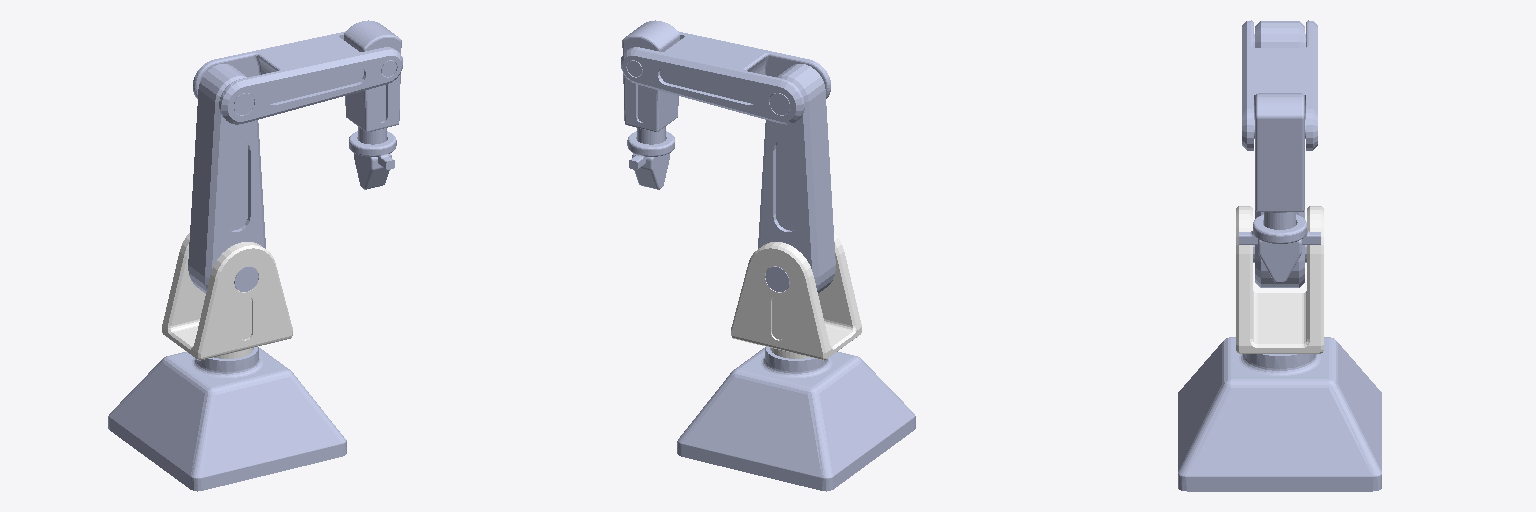
The robot description file, URDF, robot "robotic_arm_urdf":
<?xml version="1.0" encoding="utf-8"?>
<!-- This URDF was automatically created by SolidWorks to URDF Exporter! Originally created by [author] ([email redacted]) 
     Commit Version: 1.6.0-4-g7f85cfe  Build Version: 1.6.7995.38578
     For more information, please see http://wiki.ros.org/sw_urdf_exporter -->
<robot
  name="robotic_arm_urdf">
  <link
    name="base_link">
    <inertial>
      <origin
        xyz="-4.42354486374086E-17 3.46944695195361E-17 0.0738760171205099"
        rpy="0 0 0" />
      <mass
        value="17.1466031047214" />
      <inertia
        ixx="0.192001545021743"
        ixy="4.94231299318652E-10"
        ixz="-5.20420392413465E-17"
        iyy="0.192001560775053"
        iyz="5.28557777898092E-17"
        izz="0.295440370143331" />
    </inertial>
    <visual>
      <origin
        xyz="0 0 0"
        rpy="0 0 0" />
      <geometry>
        <mesh
          filename="package://robotic_arm_urdf/meshes/base_link.STL" />
      </geometry>
      <material
        name="">
        <color
          rgba="0.792156862745098 0.819607843137255 0.933333333333333 1" />
      </material>
    </visual>
    <collision>
      <origin
        xyz="0 0 0"
        rpy="0 0 0" />
      <geometry>
        <mesh
          filename="package://robotic_arm_urdf/meshes/base_link.STL" />
      </geometry>
    </collision>
  </link>
  <link
    name="link_1">
    <inertial>
      <origin
        xyz="-7.8988E-11 -2.573E-14 0.11047"
        rpy="0 0 0" />
      <mass
        value="3.0905" />
      <inertia
        ixx="0.025388"
        ixy="-1.4177E-12"
        ixz="-7.4535E-12"
        iyy="0.026302"
        iyz="-2.5317E-15"
        izz="0.019632" />
    </inertial>
    <visual>
      <origin
        xyz="0 0 0"
        rpy="0 0 0" />
      <geometry>
        <mesh
          filename="package://robotic_arm_urdf/meshes/link_1.STL" />
      </geometry>
      <material
        name="">
        <color
          rgba="1 1 1 1" />
      </material>
    </visual>
    <collision>
      <origin
        xyz="0 0 0"
        rpy="0 0 0" />
      <geometry>
        <mesh
          filename="package://robotic_arm_urdf/meshes/link_1.STL" />
      </geometry>
    </collision>
  </link>
  <joint
    name="joint_1"
    type="revolute">
    <origin
      xyz="0 0 0.2"
      rpy="0 0 -1.5708" />
    <parent
      link="base_link" />
    <child
      link="link_1" />
    <axis
      xyz="0 0 1" />
    <limit
      lower="-3.142"
      upper="3.142"
      effort="300"
      velocity="3" />
  </joint>
  <link
    name="link_2">
    <inertial>
      <origin
        xyz="3.5562E-17 0.16752 6.9389E-18"
        rpy="0 0 0" />
      <mass
        value="5.5867" />
      <inertia
        ixx="0.12632"
        ixy="-1.9293E-17"
        ixz="3.4805E-19"
        iyy="0.011401"
        iyz="-2.3426E-18"
        izz="0.12911" />
    </inertial>
    <visual>
      <origin
        xyz="0 0 0"
        rpy="0 0 0" />
      <geometry>
        <mesh
          filename="package://robotic_arm_urdf/meshes/link_2.STL" />
      </geometry>
      <material
        name="">
        <color
          rgba="0.79216 0.81961 0.93333 1" />
      </material>
    </visual>
    <collision>
      <origin
        xyz="0 0 0"
        rpy="0 0 0" />
      <geometry>
        <mesh
          filename="package://robotic_arm_urdf/meshes/link_2.STL" />
      </geometry>
    </collision>
  </link>
  <joint
    name="joint_2"
    type="revolute">
    <origin
      xyz="0 0 0.205"
      rpy="1.5707963267949 0 -1.5707963267949" />
    <parent
      link="link_1" />
    <child
      link="link_2" />
    <axis
      xyz="0 0 -1" />
    <limit
      lower="-1.57"
      upper="1.57"
      effort="200"
      velocity="3" />
  </joint>
  <link
    name="link_3">
    <inertial>
      <origin
        xyz="-0.17893 -2.2204E-16 8.3267E-17"
        rpy="0 0 0" />
      <mass
        value="2.8262" />
      <inertia
        ixx="0.0074041"
        ixy="2.8087E-18"
        ixz="9.3947E-18"
        iyy="0.028552"
        iyz="-3.4736E-10"
        izz="0.025128" />
    </inertial>
    <visual>
      <origin
        xyz="0 0 0"
        rpy="0 0 0" />
      <geometry>
        <mesh
          filename="package://robotic_arm_urdf/meshes/link_3.STL" />
      </geometry>
      <material
        name="">
        <color
          rgba="0.79216 0.81961 0.93333 1" />
      </material>
    </visual>
    <collision>
      <origin
        xyz="0 0 0"
        rpy="0 0 0" />
      <geometry>
        <mesh
          filename="package://robotic_arm_urdf/meshes/link_3.STL" />
      </geometry>
    </collision>
  </link>
  <joint
    name="joint_3"
    type="revolute">
    <origin
      xyz="0 0.4 0"
      rpy="0 0 0" />
    <parent
      link="link_2" />
    <child
      link="link_3" />
    <axis
      xyz="0 0 1" />
    <limit
      lower="-1.57"
      upper="1.57"
      effort="300"
      velocity="3" />
  </joint>
  <link
    name="link_4">
    <inertial>
      <origin
        xyz="1.1102E-16 -0.051672 -3.4694E-17"
        rpy="0 0 0" />
      <mass
        value="1.8097" />
      <inertia
        ixx="0.0096102"
        ixy="1.3989E-18"
        ixz="6.0205E-20"
        iyy="0.0023112"
        iyz="-1.4617E-18"
        izz="0.0093908" />
    </inertial>
    <visual>
      <origin
        xyz="0 0 0"
        rpy="0 0 0" />
      <geometry>
        <mesh
          filename="package://robotic_arm_urdf/meshes/link_4.STL" />
      </geometry>
      <material
        name="">
        <color
          rgba="0.79216 0.81961 0.93333 1" />
      </material>
    </visual>
    <collision>
      <origin
        xyz="0 0 0"
        rpy="0 0 0" />
      <geometry>
        <mesh
          filename="package://robotic_arm_urdf/meshes/link_4.STL" />
      </geometry>
    </collision>
  </link>
  <joint
    name="joint_4"
    type="revolute">
    <origin
      xyz="-0.35 0 0"
      rpy="0 0 0" />
    <parent
      link="link_3" />
    <child
      link="link_4" />
    <axis
      xyz="0 0 1" />
    <limit
      lower="-1.57"
      upper="1.57"
      effort="200"
      velocity="3" />
  </joint>
  <link
    name="link_5">
    <inertial>
      <origin
        xyz="-4.8572E-17 -0.0050356 -0.002538"
        rpy="0 0 0" />
      <mass
        value="0.19053" />
      <inertia
        ixx="0.00011843"
        ixy="-1.9664E-11"
        ixz="2.4305E-20"
        iyy="0.00022817"
        iyz="1.6187E-20"
        izz="0.00030197" />
    </inertial>
    <visual>
      <origin
        xyz="0 0 0"
        rpy="0 0 0" />
      <geometry>
        <mesh
          filename="package://robotic_arm_urdf/meshes/link_5.STL" />
      </geometry>
      <material
        name="">
        <color
          rgba="0.79216 0.81961 0.93333 1" />
      </material>
    </visual>
    <collision>
      <origin
        xyz="0 0 0"
        rpy="0 0 0" />
      <geometry>
        <mesh
          filename="package://robotic_arm_urdf/meshes/link_5.STL" />
      </geometry>
    </collision>
  </link>
  <joint
    name="joint_5"
    type="revolute">
    <origin
      xyz="-0.0050356 -0.20908 0"
      rpy="1.5708 -1.5708 0" />
    <parent
      link="link_4" />
    <child
      link="link_5" />
    <axis
      xyz="0 0 1" />
    <limit
      lower="-1.57"
      upper="1.57"
      effort="150"
      velocity="2" />
  </joint>
  <link
    name="end_effector_1">
    <inertial>
      <origin
        xyz="0.016013 -1.6653E-16 0.020369"
        rpy="0 0 0" />
      <mass
        value="0.11653" />
      <inertia
        ixx="8.4875E-05"
        ixy="9.4075E-20"
        ixz="1.0258E-05"
        iyy="7.1189E-05"
        iyz="-8.0306E-21"
        izz="3.9246E-05" />
    </inertial>
    <visual>
      <origin
        xyz="0 0 0"
        rpy="0 0 0" />
      <geometry>
        <mesh
          filename="package://robotic_arm_urdf/meshes/end_effector_1.STL" />
      </geometry>
      <material
        name="">
        <color
          rgba="0.79216 0.81961 0.93333 1" />
      </material>
    </visual>
    <collision>
      <origin
        xyz="0 0 0"
        rpy="0 0 0" />
      <geometry>
        <mesh
          filename="package://robotic_arm_urdf/meshes/end_effector_1.STL" />
      </geometry>
    </collision>
  </link>
  <joint
    name="ee_joint_1"
    type="prismatic">
    <origin
      xyz="0 -0.0050356 0.020918"
      rpy="0 0 -3.1416" />
    <parent
      link="link_5" />
    <child
      link="end_effector_1" />
    <axis
      xyz="1 0 0" />
    <limit
      lower="0"
      upper="0.03"
      effort="100"
      velocity="2" />
  </joint>
  <link
    name="end_effector_2">
    <inertial>
      <origin
        xyz="-0.016013 -2.2204E-16 0.020369"
        rpy="0 0 0" />
      <mass
        value="0.11653" />
      <inertia
        ixx="8.4875E-05"
        ixy="-6.476E-20"
        ixz="-1.0258E-05"
        iyy="7.1189E-05"
        iyz="9.8527E-20"
        izz="3.9246E-05" />
    </inertial>
    <visual>
      <origin
        xyz="0 0 0"
        rpy="0 0 0" />
      <geometry>
        <mesh
          filename="package://robotic_arm_urdf/meshes/end_effector_2.STL" />
      </geometry>
      <material
        name="">
        <color
          rgba="0.79216 0.81961 0.93333 1" />
      </material>
    </visual>
    <collision>
      <origin
        xyz="0 0 0"
        rpy="0 0 0" />
      <geometry>
        <mesh
          filename="package://robotic_arm_urdf/meshes/end_effector_2.STL" />
      </geometry>
    </collision>
  </link>
  <joint
    name="ee_joint_2"
    type="prismatic">
    <origin
      xyz="0 -0.0050356 0.020918"
      rpy="0 0 -3.1416" />
    <parent
      link="link_5" />
    <child
      link="end_effector_2" />
    <axis
      xyz="1 0 0" />
    <limit
      lower="-0.03"
      upper="0"
      effort="100"
      velocity="2" />
  </joint>
</robot>

--- Facts derived from the render (not from the file) ---
The picture shows the robot from 3 angles, left to right: view 1: azimuth 30°, elevation 25°; view 2: azimuth 150°, elevation 25°; view 3: azimuth 270°, elevation 25°; orthographic projection.
Robot: robotic_arm_urdf — 8 links, 7 joints (5 revolute, 2 prismatic); root link base_link; default pose: every joint at zero.
Visible links, largest first — view 1: base_link, link_2, link_1, link_3, link_4, link_5, end_effector_1; view 2: base_link, link_2, link_1, link_3, link_4, link_5, end_effector_2; view 3: base_link, link_1, link_4, link_3, link_2, link_5, end_effector_1, end_effector_2.
Boxes of the visible links, <box> form: base_link: <box>108,347,346,491</box>; link_2: <box>188,64,265,293</box>; link_1: <box>162,233,292,360</box>; link_3: <box>193,31,402,124</box>; link_4: <box>344,20,401,144</box>; link_5: <box>349,131,396,169</box>; end_effector_1: <box>362,153,391,189</box>; base_link: <box>677,347,915,491</box>; link_2: <box>758,64,835,293</box>; link_1: <box>731,233,861,360</box>; link_3: <box>621,31,830,124</box>; link_4: <box>622,20,679,144</box>; link_5: <box>627,131,674,169</box>; end_effector_2: <box>632,153,661,189</box>; base_link: <box>1178,337,1381,491</box>; link_1: <box>1236,206,1323,353</box>; link_4: <box>1254,93,1305,229</box>; link_3: <box>1242,20,1317,150</box>; link_2: <box>1253,21,1306,287</box>; link_5: <box>1239,214,1320,244</box>; end_effector_1: <box>1258,239,1279,282</box>; end_effector_2: <box>1280,239,1301,282</box>.
Size in the robot's own frame: 0.5866 by 0.3732 by 0.87 metres.
8 mesh visuals loaded from 8 distinct referenced files (8 binary STL).